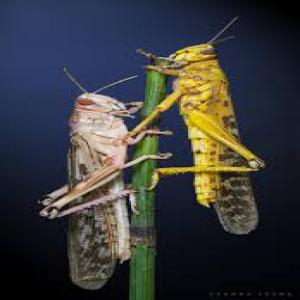locust: (167, 17, 300, 264), (46, 51, 132, 300)
